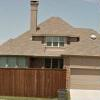Chimney: (23, 1, 46, 37)
